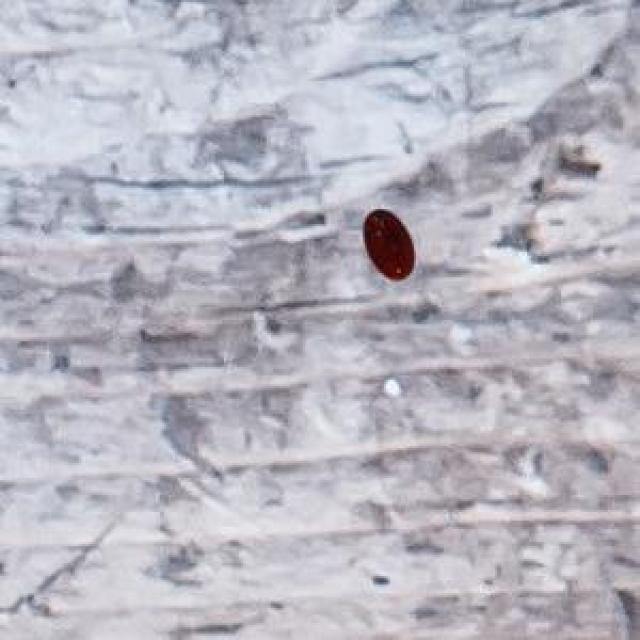Medicol: (345, 184, 435, 300)
